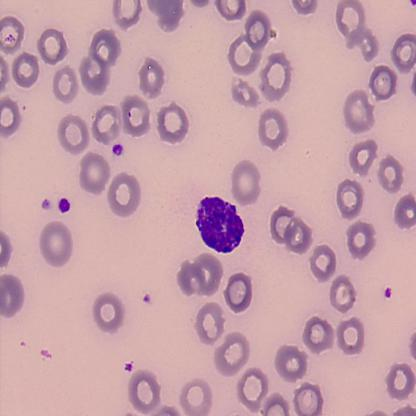Basophil: (194, 196, 246, 256)
